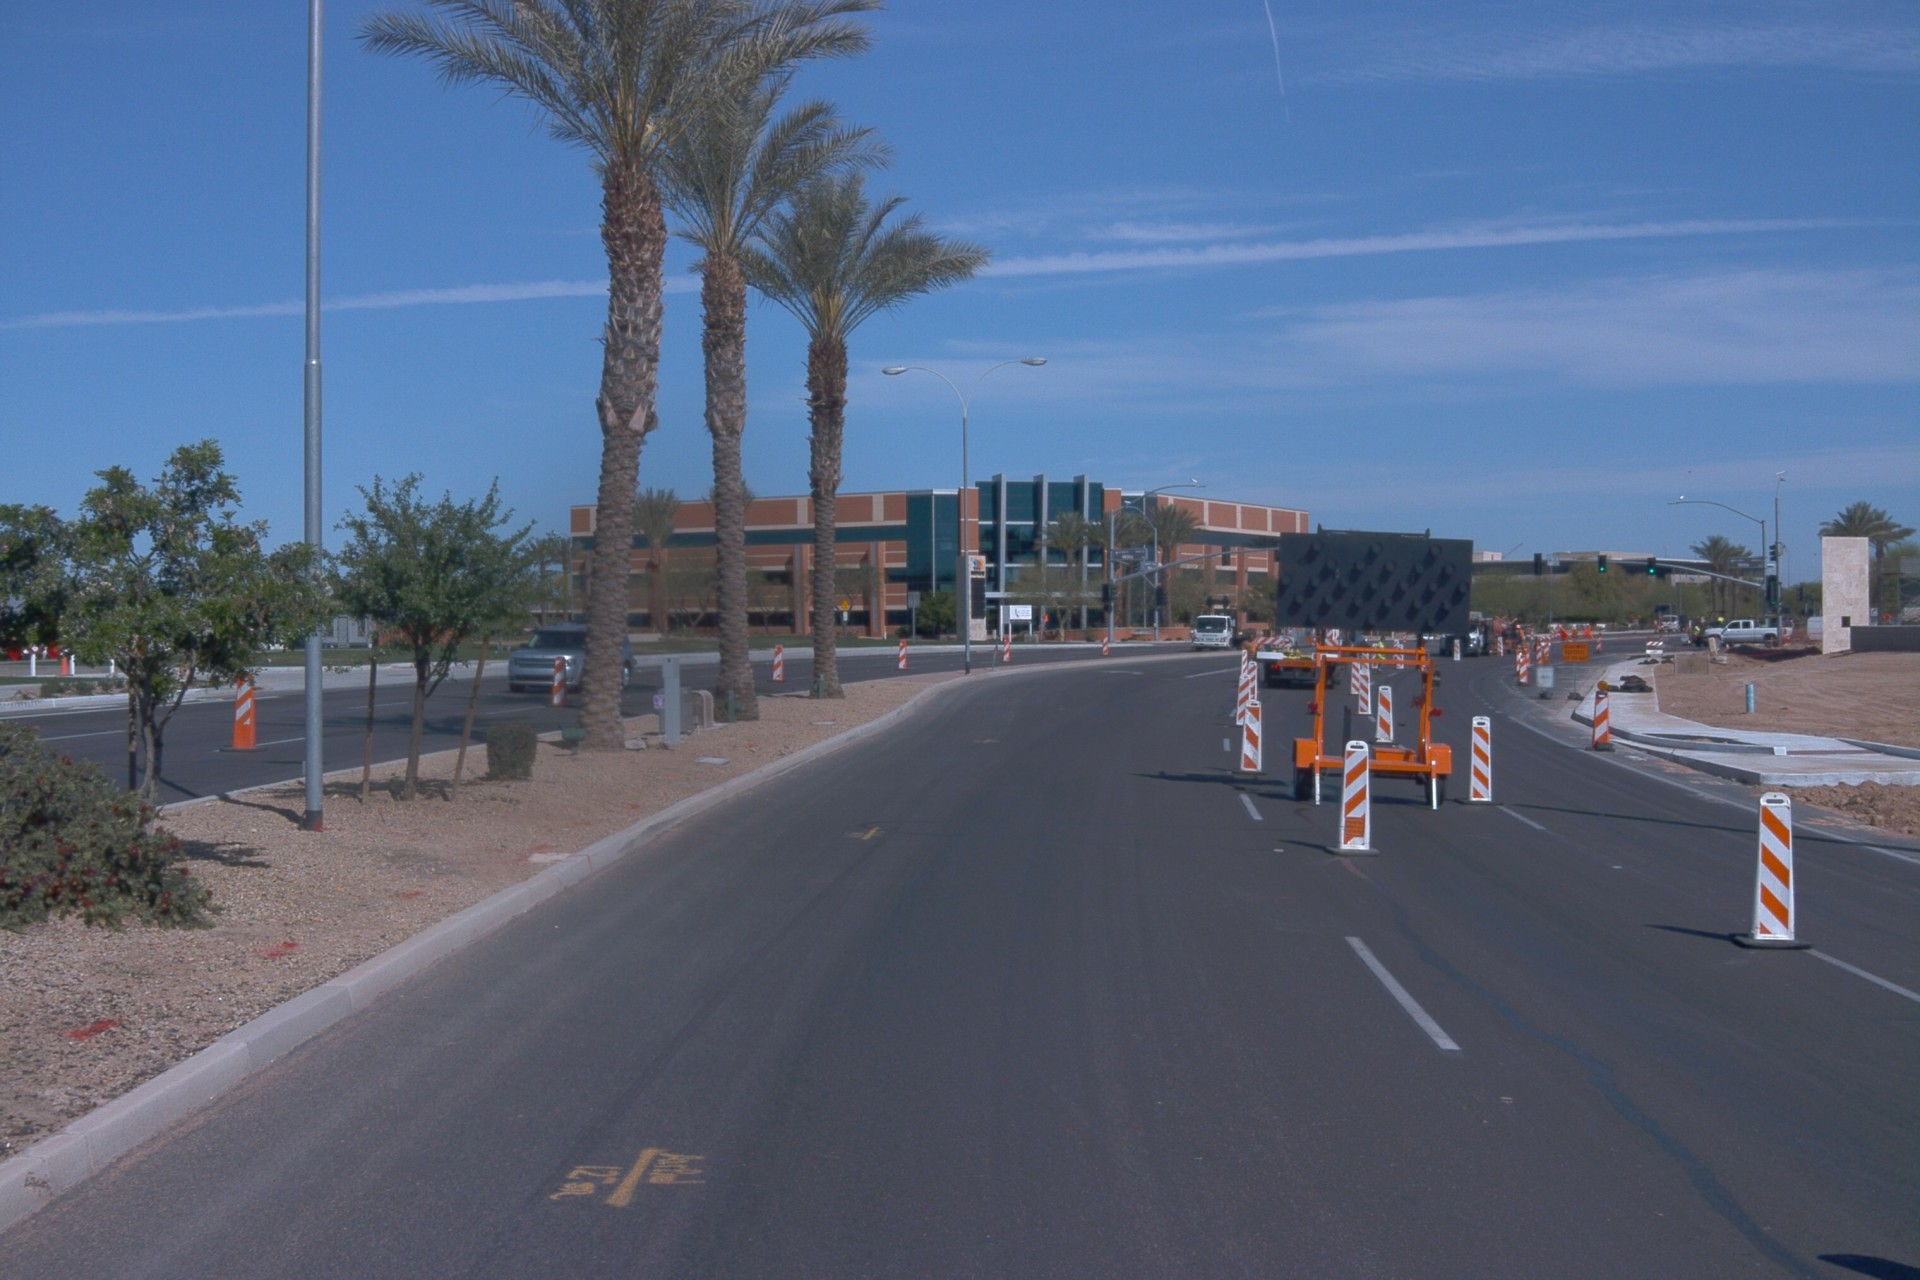TYPE_PEDESTRIAN: (1242, 633, 1258, 669), (1376, 636, 1388, 675)
TYPE_VEHICLE: (1272, 526, 1493, 820), (501, 621, 636, 692), (1250, 615, 1353, 695), (1437, 614, 1525, 660), (1700, 617, 1792, 653), (1188, 614, 1259, 654), (1658, 613, 1695, 634), (281, 635, 310, 654)
